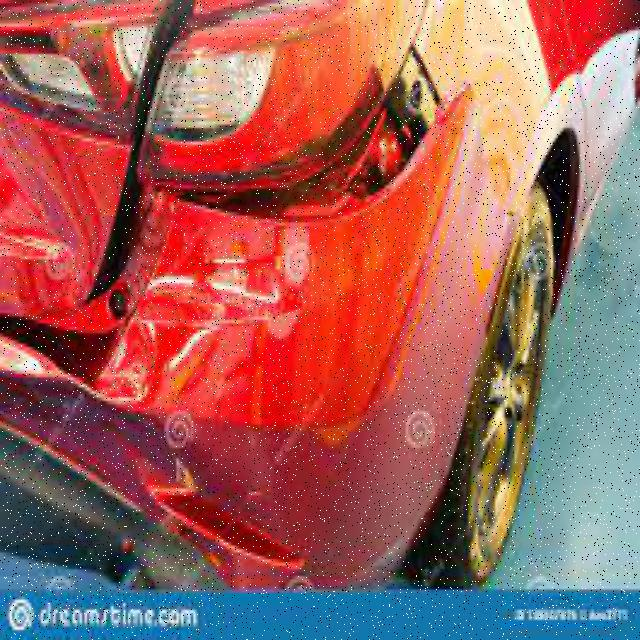rear-bumper-dent: (0, 99, 538, 578)
